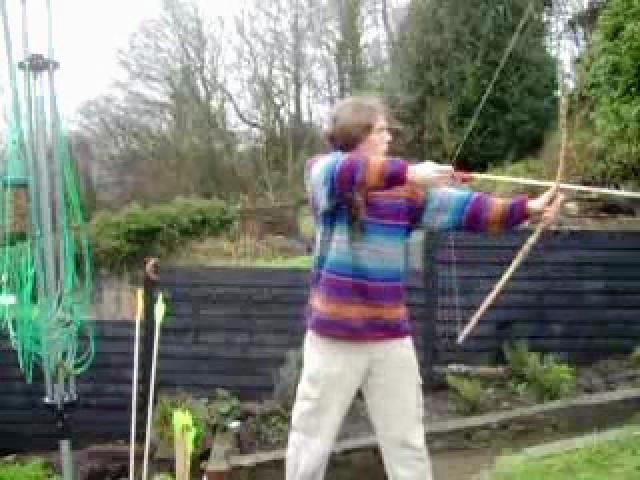I: (262, 96, 567, 480)
